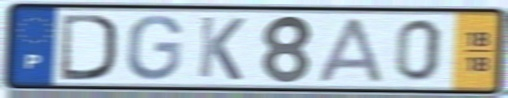0: (393, 16, 446, 85)
8: (260, 13, 315, 86)
A: (314, 16, 387, 85)
D: (59, 11, 120, 82)
G: (124, 13, 185, 82)
K: (195, 14, 248, 83)
